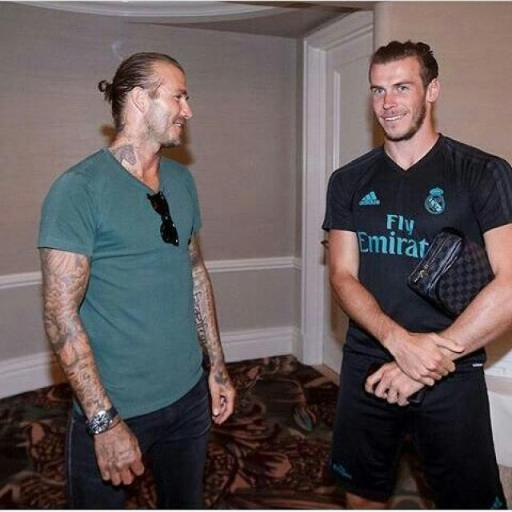Adidas: (358, 190, 378, 208)
Emirates: (356, 212, 429, 258)
